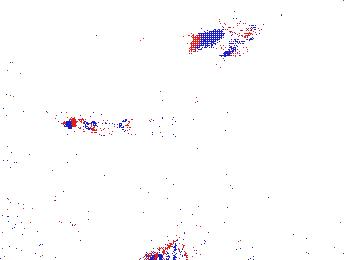X-ray fish: (148, 104, 198, 141)
red belly glassfish: (61, 111, 137, 135)
redtail glassfish: (187, 19, 256, 58)
